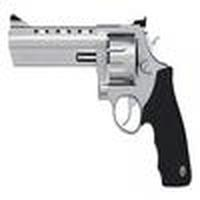gun: (4, 7, 194, 189)
